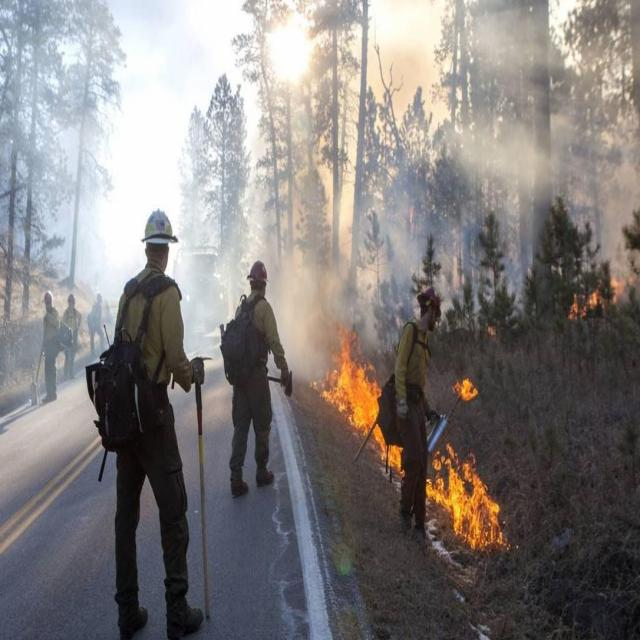fire: (321, 331, 400, 480), (426, 447, 507, 555)
